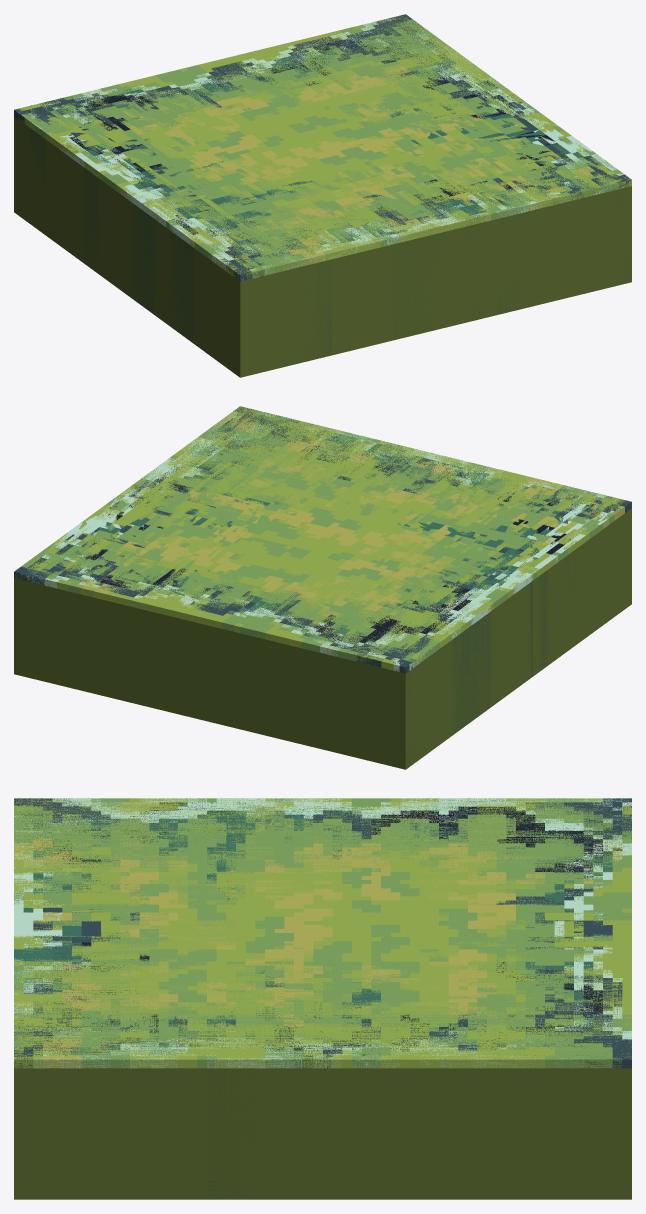
File: ground.glb
The picture shows the model from 3 angles, top to bottom: view 1: azimuth 30°, elevation 25°; view 2: azimuth 150°, elevation 25°; view 3: azimuth 270°, elevation 25°; orthographic projection. The views are drawn at different scales.
Visible parts, largest first — view 1: q0, q1, q4, q8, q2, q10, q6, q9, q15, q5, q12, q3 (+1 smaller); view 2: q0, q4, q1, q2, q8, q6, q10, q15, q9, q5, q12, q3 (+1 smaller); view 3: q0, q6, q1, q2, q4, q10, q8, q9, q15, q5, q3, q14 (+1 smaller).
Part boxes in pixels (bbox=[...]): q0: bbox=[60, 14, 631, 377]; q1: bbox=[14, 15, 496, 376]; q4: bbox=[14, 14, 485, 374]; q8: bbox=[14, 75, 631, 362]; q2: bbox=[14, 36, 630, 210]; q10: bbox=[194, 16, 592, 376]; q6: bbox=[199, 15, 630, 210]; q9: bbox=[190, 151, 631, 377]; q15: bbox=[60, 38, 588, 359]; q5: bbox=[16, 82, 227, 158]; q12: bbox=[111, 140, 256, 304]; q3: bbox=[177, 68, 387, 218]; q0: bbox=[14, 406, 631, 735]; q4: bbox=[14, 462, 631, 769]; q1: bbox=[14, 475, 631, 769]; q2: bbox=[67, 406, 479, 752]; q8: bbox=[114, 407, 590, 764]; q6: bbox=[14, 408, 391, 628]; q10: bbox=[16, 419, 629, 608]; q15: bbox=[56, 432, 585, 734]; q9: bbox=[201, 407, 631, 561]; q5: bbox=[280, 576, 464, 670]; q12: bbox=[358, 557, 537, 678]; q3: bbox=[177, 534, 534, 615]; q0: bbox=[14, 798, 631, 1199]; q6: bbox=[14, 920, 631, 1199]; q1: bbox=[14, 798, 631, 1068]; q2: bbox=[14, 798, 631, 1199]; q4: bbox=[14, 798, 631, 1068]; q10: bbox=[14, 798, 631, 1199]; q8: bbox=[14, 798, 631, 1068]; q9: bbox=[14, 798, 349, 1068]; q15: bbox=[14, 798, 612, 1199]; q5: bbox=[376, 798, 631, 896]; q3: bbox=[198, 810, 602, 992]; q14: bbox=[46, 951, 539, 1068].
Bounding box in the file's own units: 64 × 16 × 64.
Materials: 1 (1 with a texture image).
